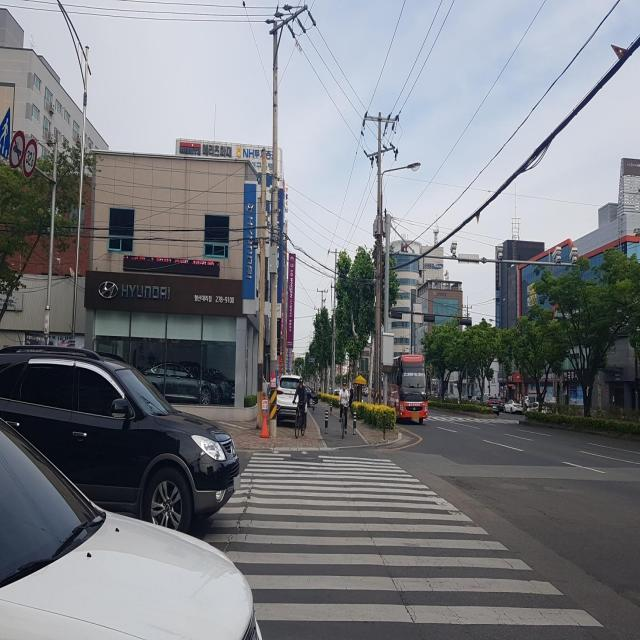횡단보도: (201, 448, 606, 630), (429, 412, 521, 426)
